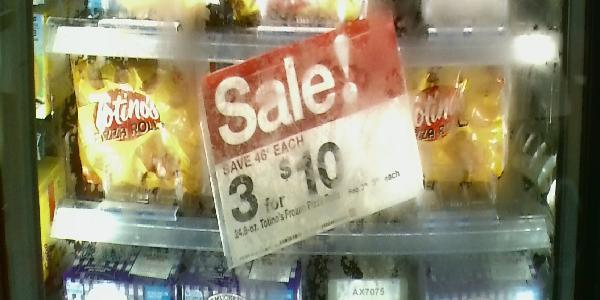icecream: (68, 58, 205, 204), (372, 64, 506, 187)
